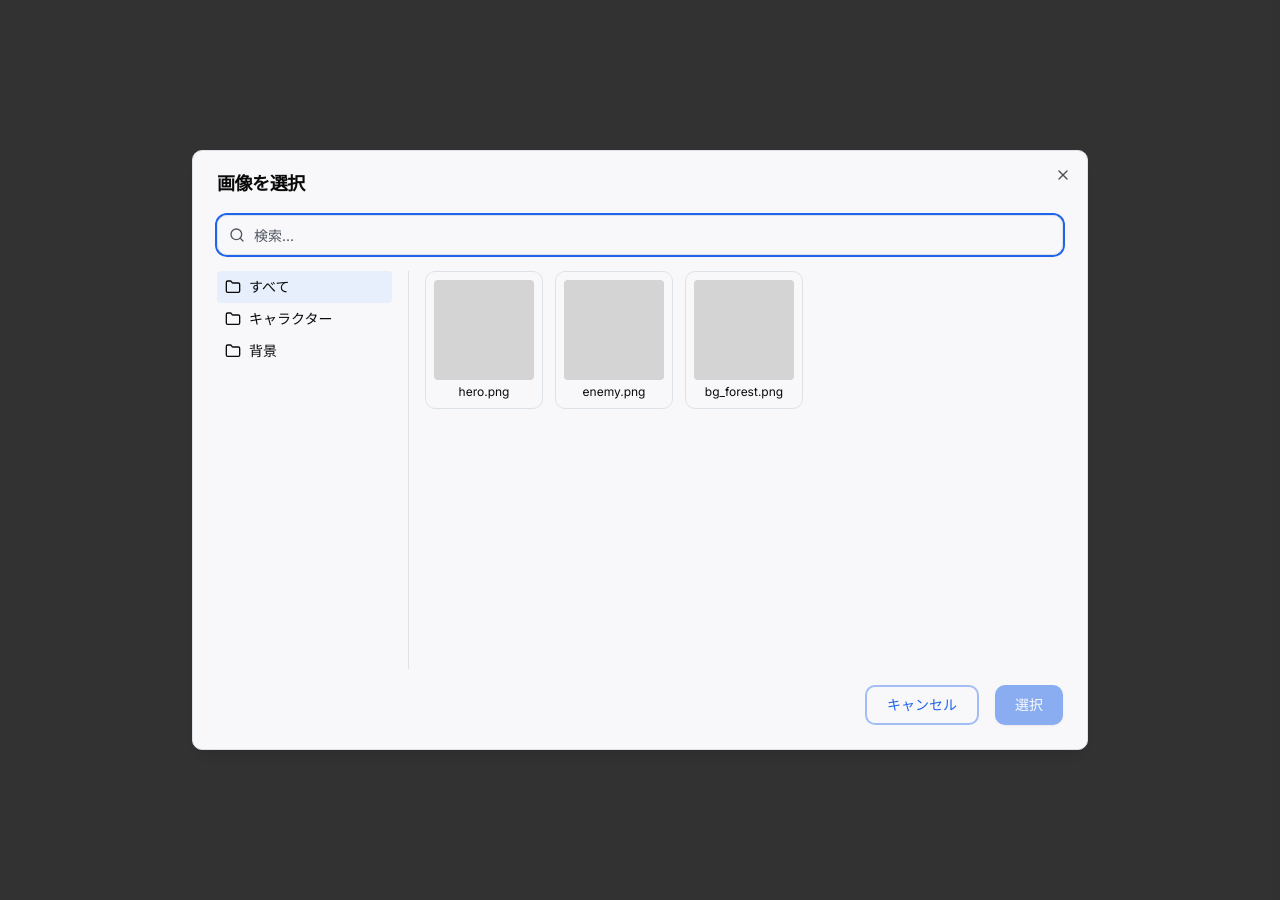
Scenario: AssetPickerModal › フォルダナビゲーション › フォルダを選択するとそのフォルダのアセットのみ表示する
Click the text "キャラクター".
click(279, 318)  # box 225,310 -> 332,327
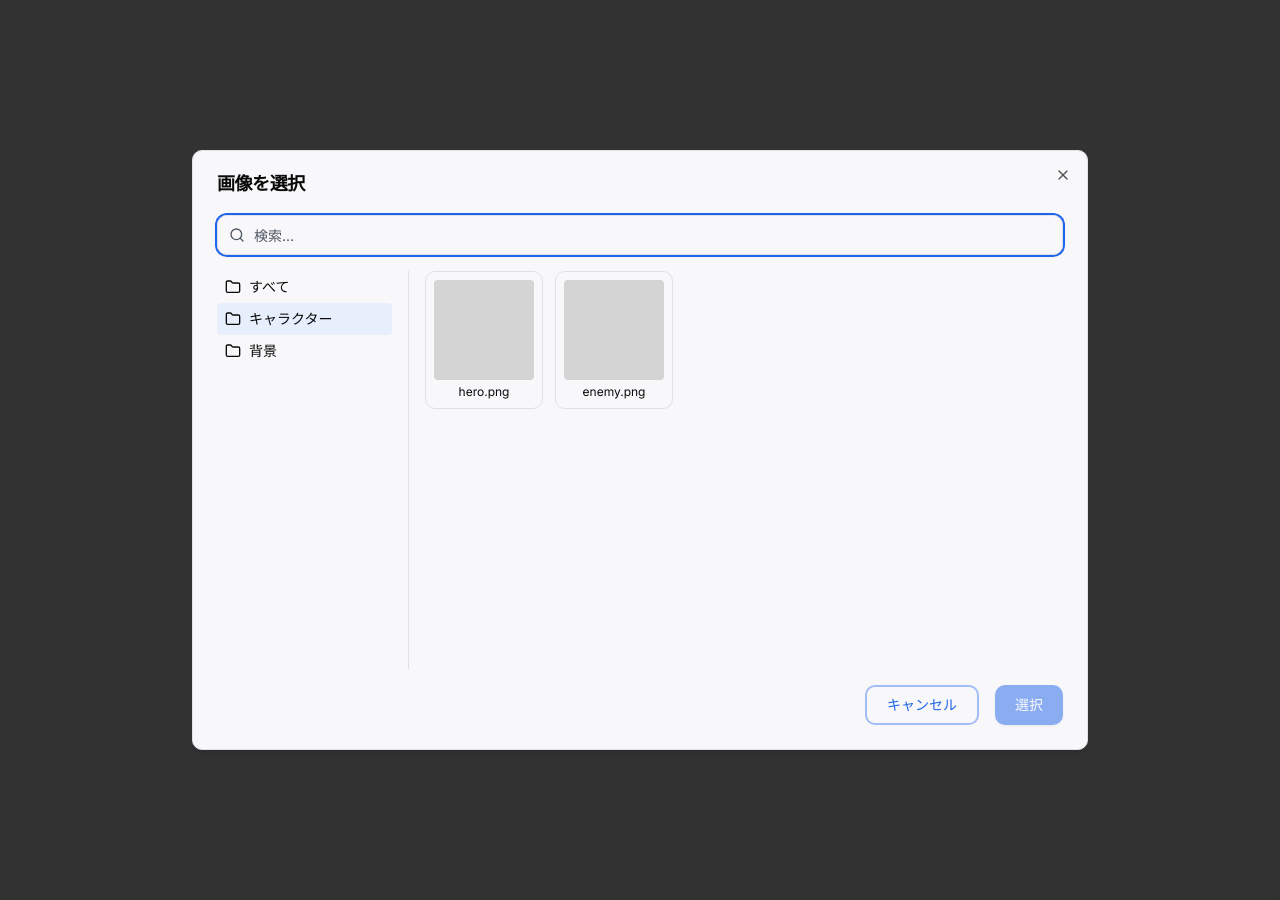
Expected: the text "hero.png" is shown, 459,384 -> 510,399
Expected: the text "bg_forest.png" is gone
